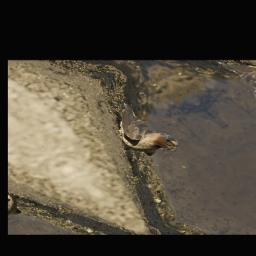Swallow: (92, 102, 185, 163)
